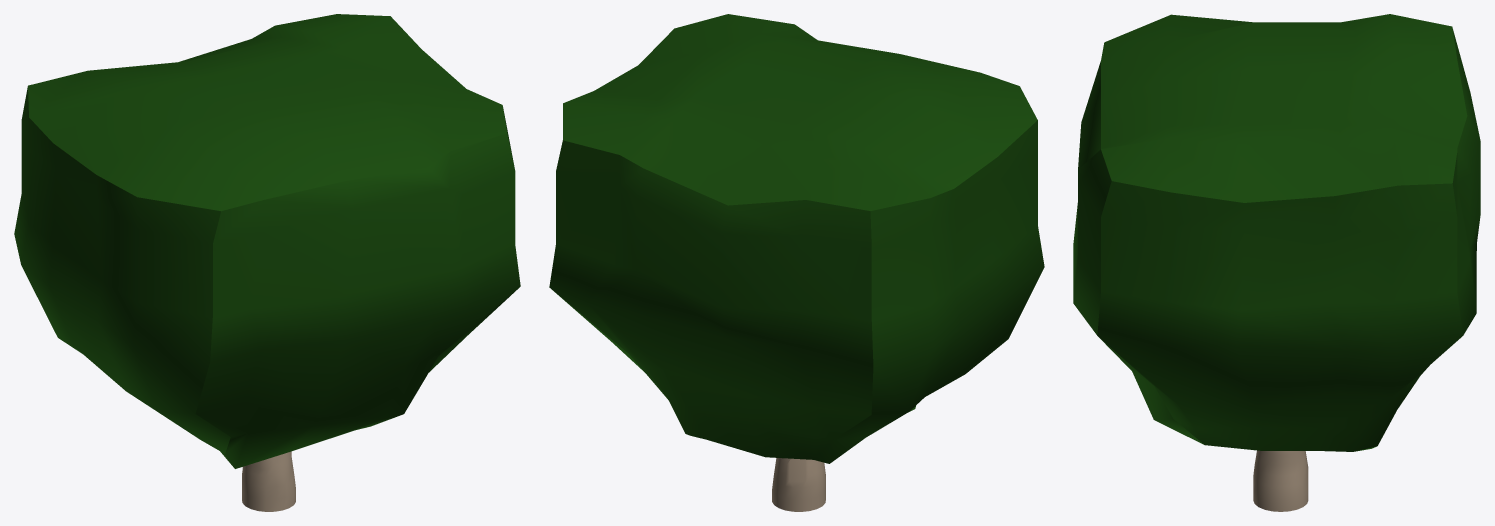
The model's file is puzzletree.fbx.
3 views of the same model, side by side, from view 1: azimuth 30°, elevation 25°; view 2: azimuth 150°, elevation 25°; view 3: azimuth 270°, elevation 25° (orthographic).
Visible parts, largest first — view 1: pCube1, pCylinder2; view 2: pCube1, pCylinder2; view 3: pCube1, pCylinder2.
Boxes of the visible parts, box(x1,y1,x2,y2) form: pCube1: box(14, 14, 520, 468); pCylinder2: box(242, 451, 295, 511); pCube1: box(549, 14, 1044, 463); pCylinder2: box(772, 458, 825, 511); pCube1: box(1073, 14, 1480, 451); pCylinder2: box(1253, 450, 1308, 511).
Size of the model in its own units: 6.7 by 6.81 by 5.96.
Materials: 2 (2 with a texture image).
